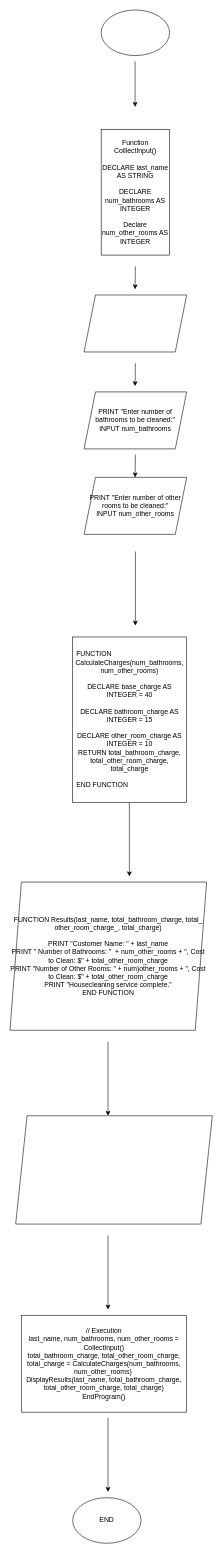
Image size: 222x1553. Some labels were removed from this diagram. Here are the shapes that lost their labels. From the top down, the box of each, then its label:
(101, 9, 170, 56): Start
(84, 294, 187, 352): PRINT "Enter customer's last name:" INPUT last_name
(15, 1115, 212, 1224): FUNCTION EndProgram() PRINT "Thank you for using Hazel's Housecleaning Service."
